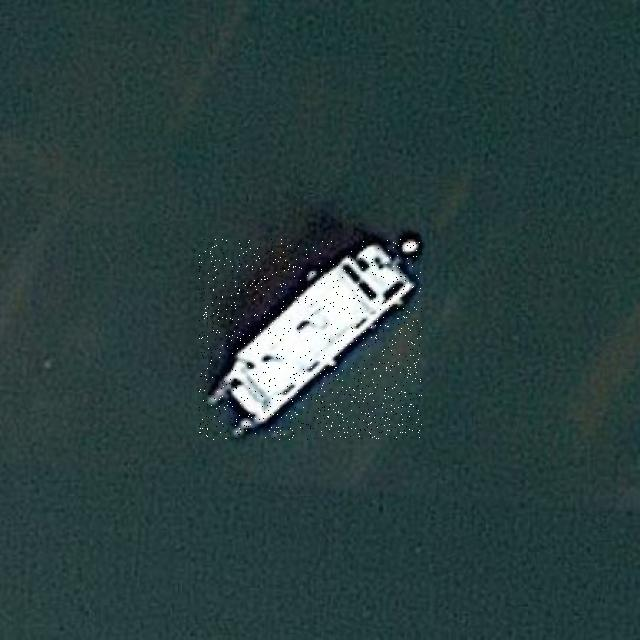boat: (199, 239, 422, 440)
